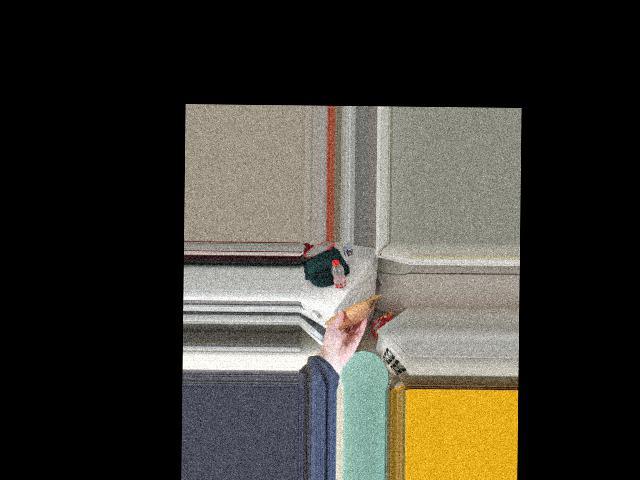sweet_potato: (334, 302, 367, 329)
